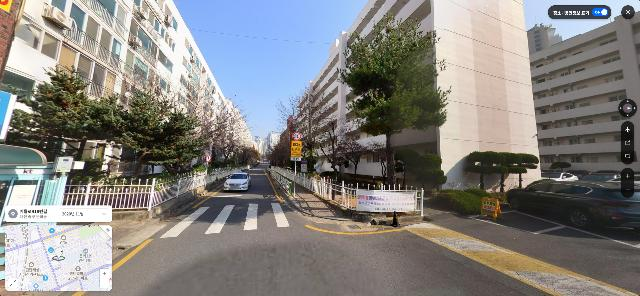other: (6, 59, 204, 185), (337, 9, 454, 186), (273, 84, 342, 174), (199, 93, 259, 168), (464, 150, 539, 193), (394, 148, 445, 195), (335, 139, 385, 180)
